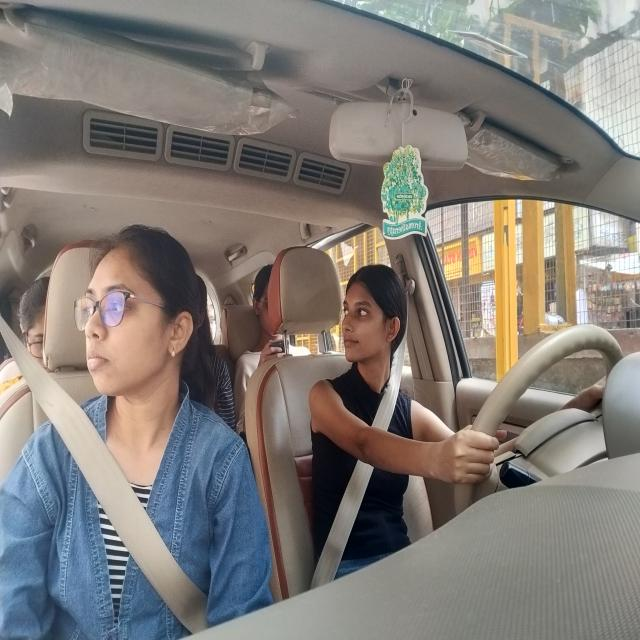LeftRight: (337, 270, 407, 367)
person: (85, 238, 198, 400), (20, 282, 48, 366), (258, 272, 278, 351)
